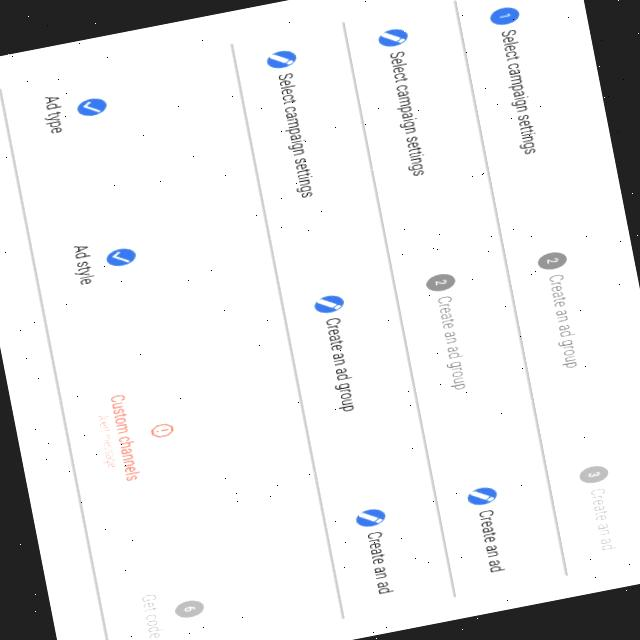VStepper: (0, 62, 248, 640), (230, 25, 432, 620), (342, 4, 544, 598), (454, 0, 640, 576)
